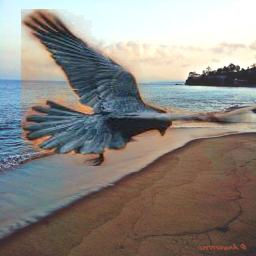Crow: (21, 9, 252, 166)
